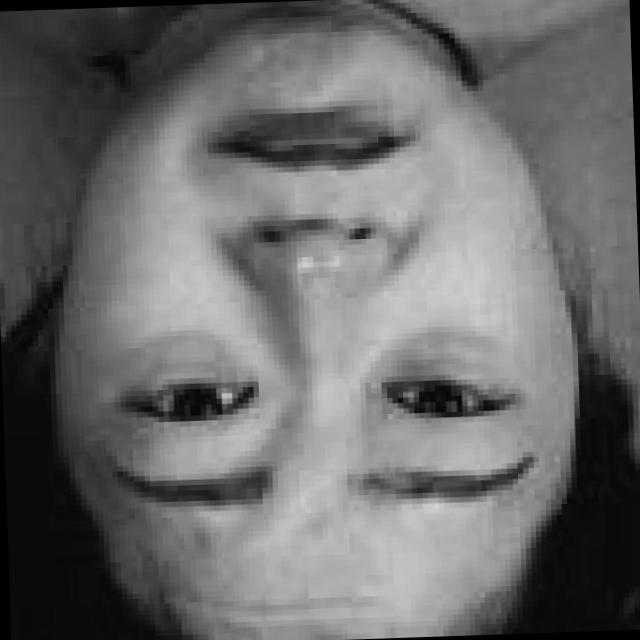sad: (78, 23, 600, 560)
